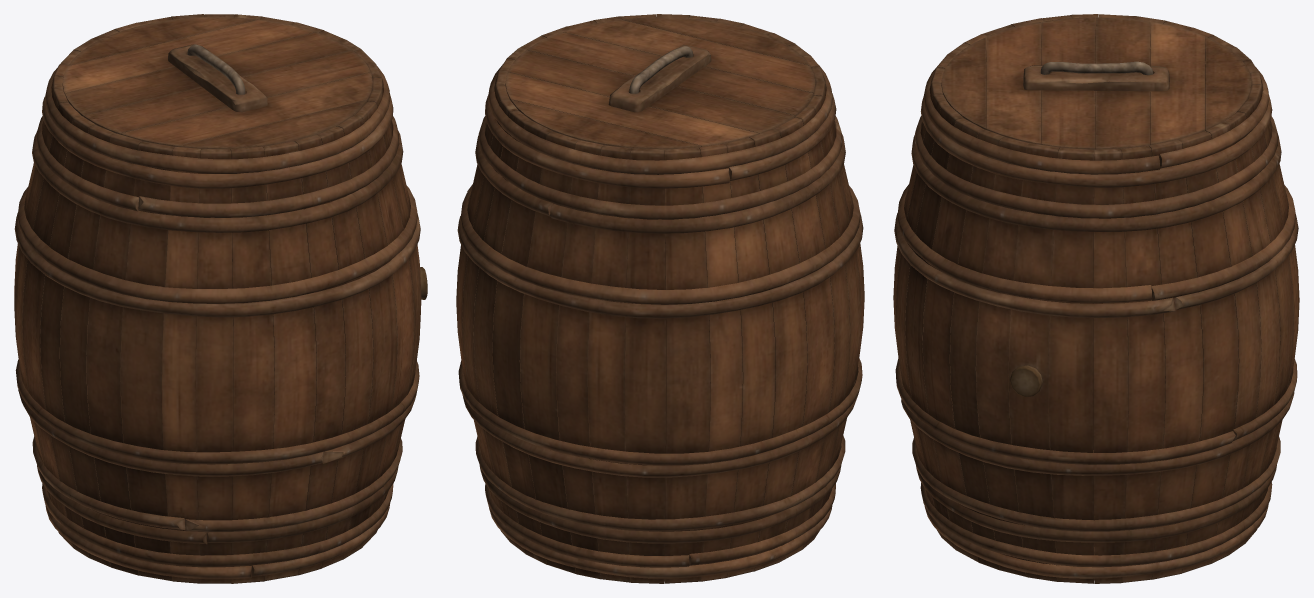
Rendered from wooden_barrels_01.glb.
3 views of the same model, side by side, from view 1: azimuth 30°, elevation 25°; view 2: azimuth 150°, elevation 25°; view 3: azimuth 270°, elevation 25° (orthographic).
Parts seen in each view (by area): view 1: wooden_barrels_01; view 2: wooden_barrels_01; view 3: wooden_barrels_01.
Boxes of the visible parts, <box> form: wooden_barrels_01: <box>14,14,427,583</box>; wooden_barrels_01: <box>456,14,864,583</box>; wooden_barrels_01: <box>893,14,1299,583</box>.
Bounding box in the file's own units: 0.743 × 0.9168 × 0.743.
Materials: 1 (1 with a texture image).
